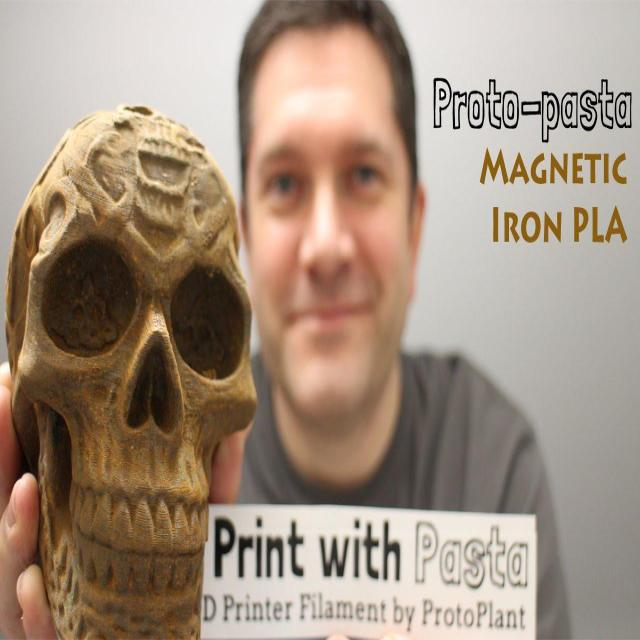Without deffect: (2, 77, 263, 640)
